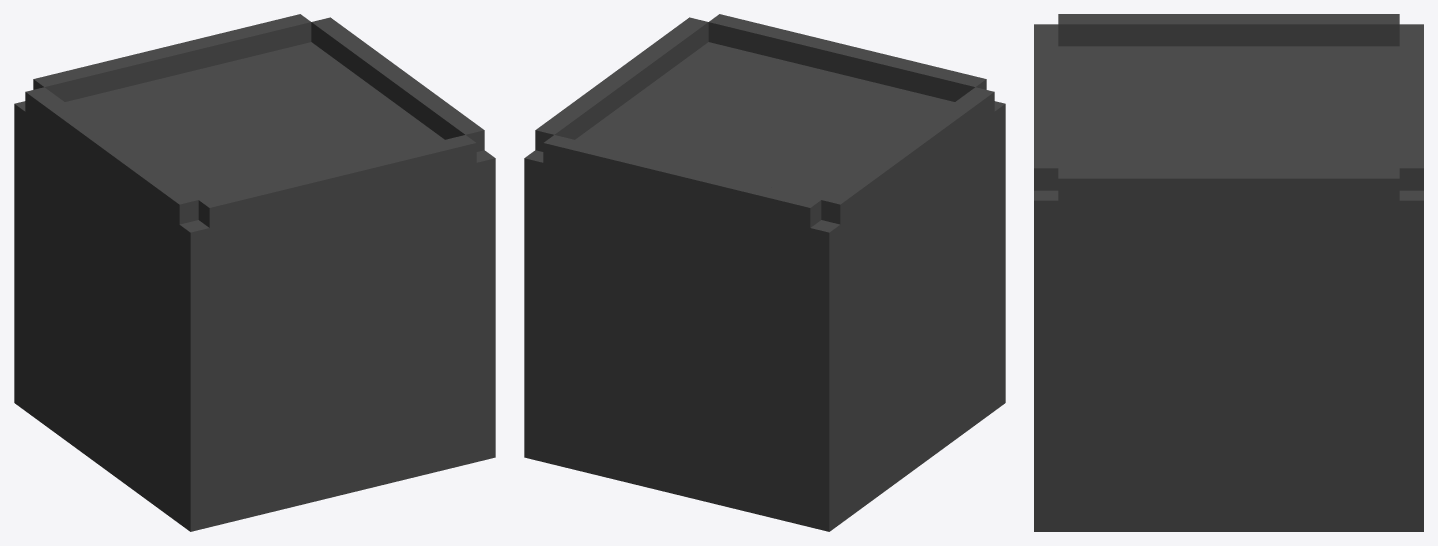
The model's file is Moyou11.obj.
The picture shows the model from 3 angles, left to right: view 1: azimuth 30°, elevation 25°; view 2: azimuth 150°, elevation 25°; view 3: azimuth 270°, elevation 25°; orthographic projection. The views are drawn at different scales.
Visible parts, largest first — view 1: Moyou11; view 2: Moyou11; view 3: Moyou11.
Part boxes in pixels (box(x1,y1,x2,y2)): Moyou11: box(14, 14, 495, 531); Moyou11: box(524, 14, 1005, 531); Moyou11: box(1034, 14, 1423, 531).
Size of the model in its own units: 16 by 16 by 16.
1 material, 1 textured.
